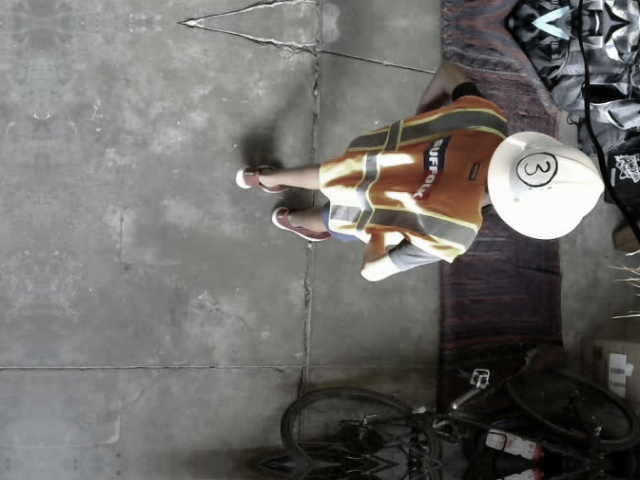three: (515, 151, 558, 186)
